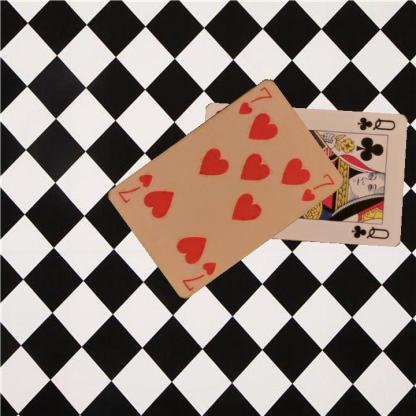7h: (179, 259, 219, 292), (236, 83, 274, 116)
Qc: (354, 115, 396, 132)
